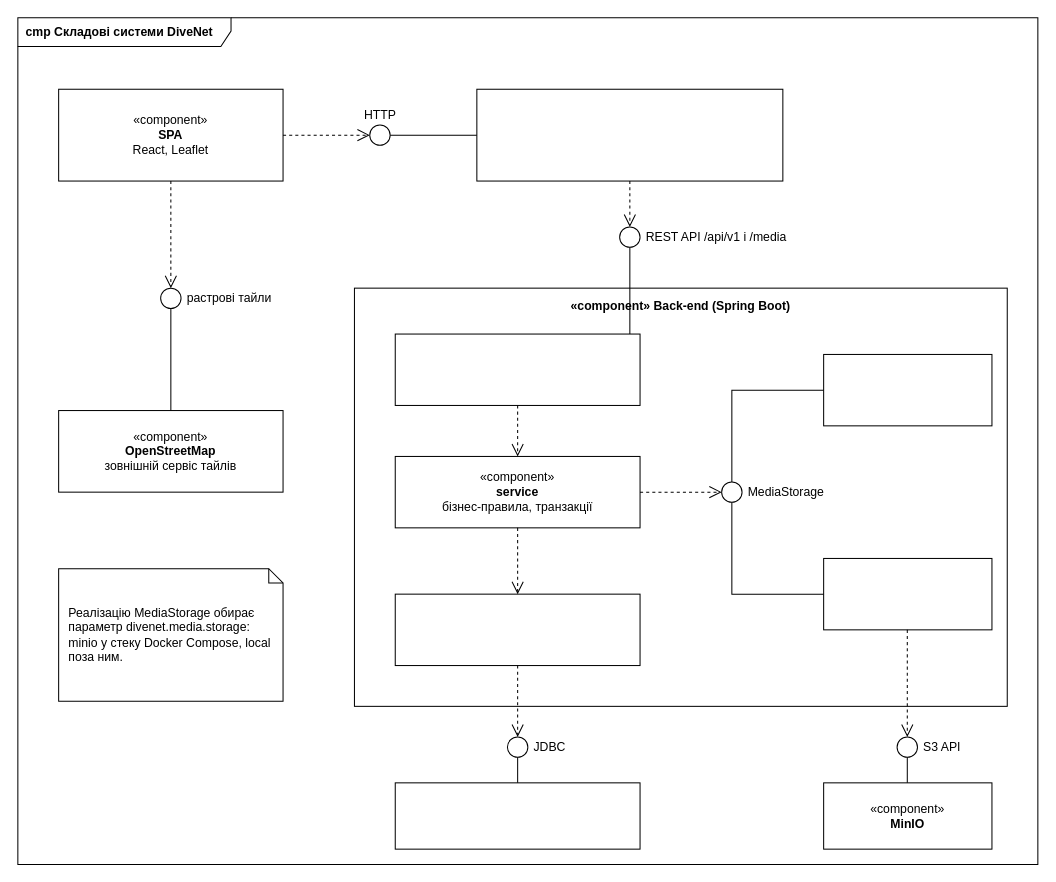
Image size: 1056x882. Some labels were removed from this diagram. The shapes that lost their labels are listed below. From the top down, each one's box as (x1, y1, x2, y2) in pixels, then its label:
(476, 88, 783, 181): «component» nginx статика, проксі /api і /media
(394, 333, 640, 405): «component» web контролери, DTO
(823, 353, 992, 426): «component» LocalDisk MediaStorage
(823, 557, 992, 630): «component» Minio MediaStorage
(394, 593, 640, 666): «component» domain сутності, репозиторії
(394, 782, 640, 849): «component» PostgreSQL + PostGIS
